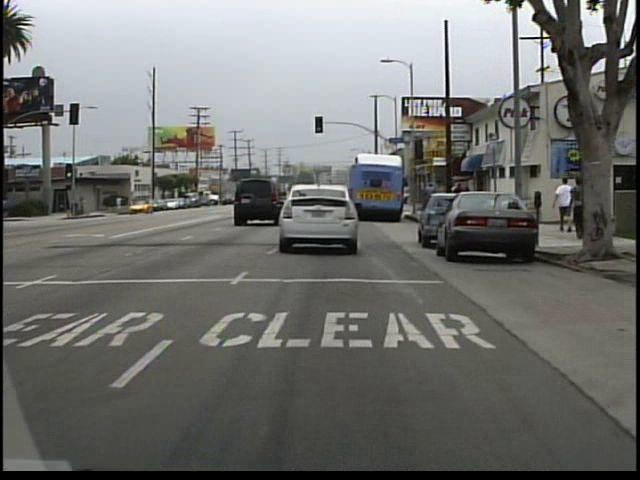person: (549, 172, 572, 235), (566, 175, 586, 237), (421, 180, 440, 220), (115, 195, 126, 212)
